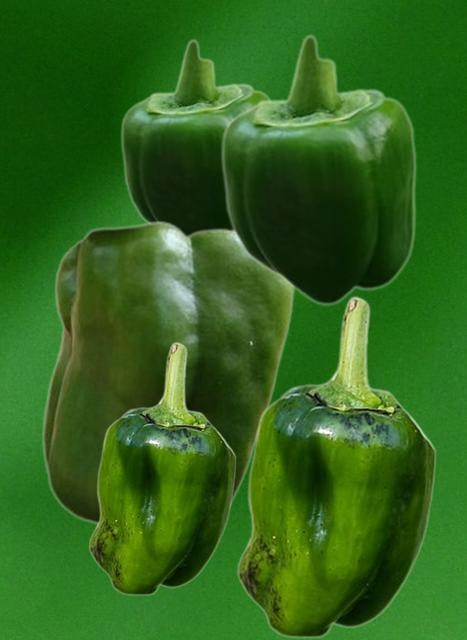bell_pepper: (41, 220, 295, 525), (236, 295, 435, 638), (220, 33, 416, 306), (88, 341, 235, 595), (120, 38, 270, 232)
